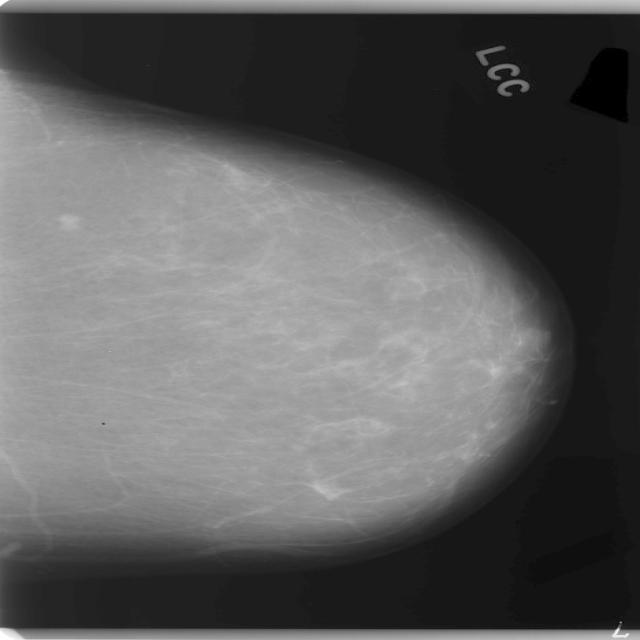tumour: (55, 213, 79, 231)
